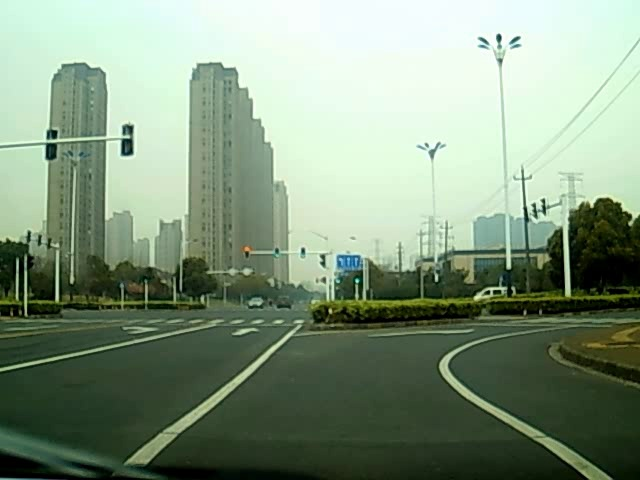Traffic_Light_go: (353, 271, 361, 285), (299, 245, 306, 259), (274, 247, 279, 260)
Traffic_Light_stop: (242, 245, 249, 259)
